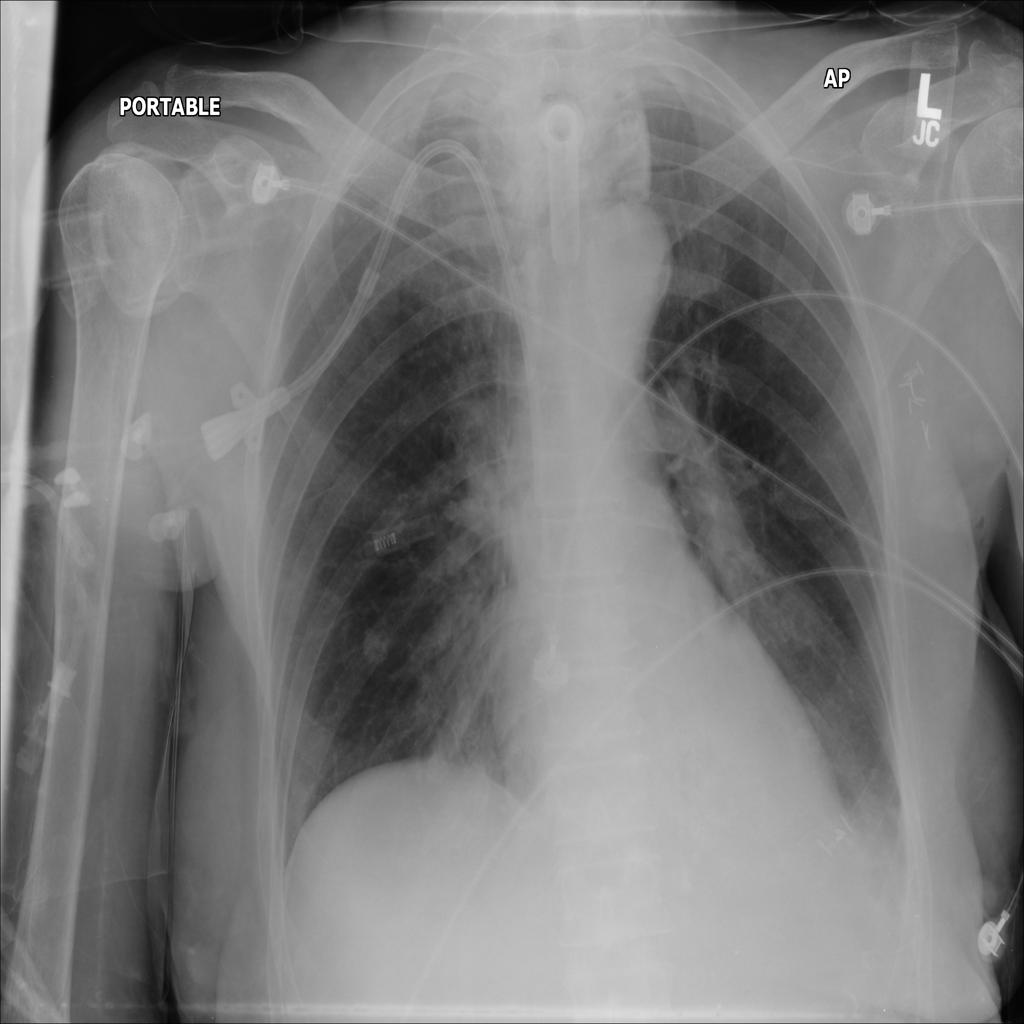nodule: (350, 605, 408, 687)
